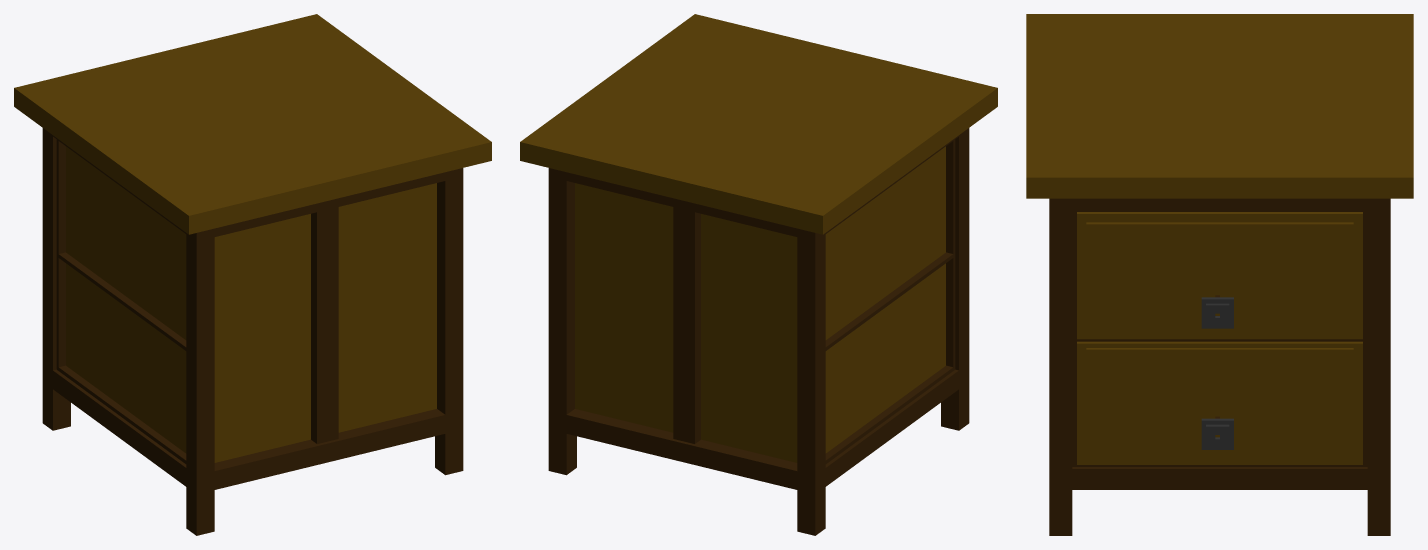
Rendered from table_de_chevet.obj.
The picture shows the model from 3 angles, left to right: view 1: azimuth 30°, elevation 25°; view 2: azimuth 150°, elevation 25°; view 3: azimuth 270°, elevation 25°; orthographic projection. The views are drawn at different scales.
Size of the model in its own units: 84 by 88 by 84.
Materials: 1 (1 with a texture image).
